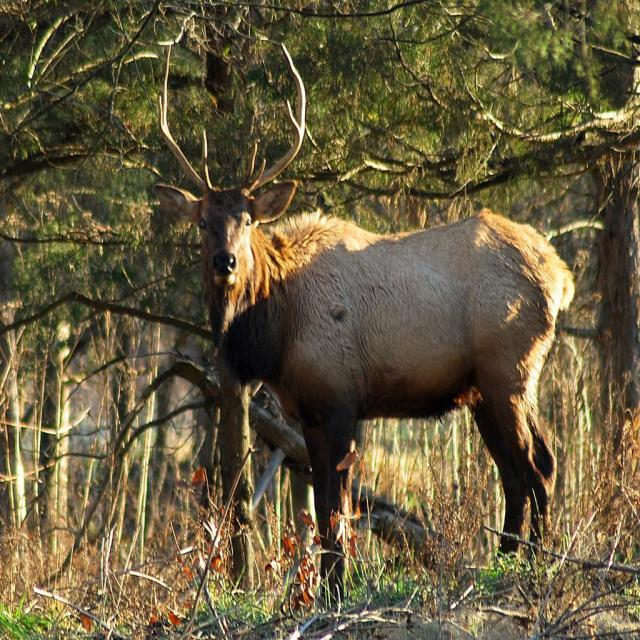Deer: (147, 35, 573, 616)
